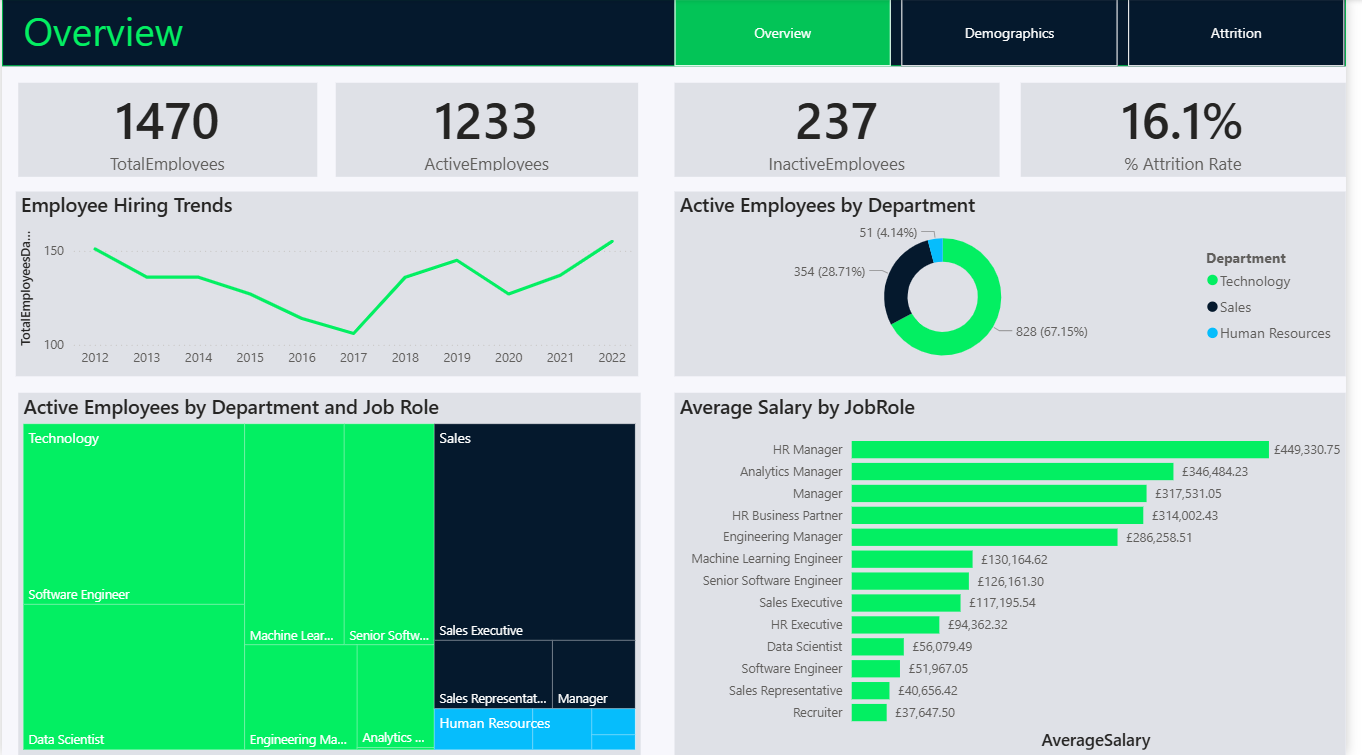

This screenshot's page, from the dashboard's own definition file:
{"tool":"powerbi","page":{"name":"Overview","canvas":[1280,720],"ordinal":0},"visuals":[{"type":"card","fields":{"Values":["_Measures.TotalEmployees"]},"box":[15.5,79.8,284.5,89.3],"z":0},{"type":"card","fields":{"Values":["_Measures.ActiveEmployees"]},"box":[317.9,79.8,288.1,89.3],"z":1000},{"type":"card","fields":{"Values":["_Measures.InactiveEmployees"]},"box":[640.5,79.8,309.5,89.3],"z":2000},{"type":"card","fields":{"Values":["_Measures.% Attrition Rate"]},"box":[970.2,79.8,309.5,89.3],"z":3000},{"type":"lineChart","title":"Employee Hiring Trends","fields":{"Category":["DimDate.Date.Variation.Date Hierarchy.Year","DimDate.Date.Variation.Date Hierarchy.Quarter","DimDate.Date.Variation.Date Hierarchy.Month","DimDate.Date.Variation.Date Hierarchy.Day"],"Y":["_Measures.TotalEmployeesDate"]},"box":[13.1,183.3,592.9,176.2],"z":4000},{"type":"donutChart","title":"Active Employees by Department","fields":{"Category":["DimEmployee.Department"],"Y":["_Measures.ActiveEmployees"]},"box":[640.5,183.3,639.3,176.2],"z":5000},{"type":"treemap","title":"Active Employees by Department and Job Role","fields":{"Values":["_Measures.ActiveEmployees"],"Group":["DimEmployee.Department"],"Details":["DimEmployee.JobRole"]},"box":[15.5,375,592.9,345.2],"z":6000},{"type":"shape","box":[0,0,1280,64],"z":7000},{"type":"textbox","box":[16,0,448,64],"z":8000},{"type":"pageNavigator","box":[640,0,640,64],"z":9000},{"type":"clusteredBarChart","title":"Average Salary by JobRole","fields":{"Y":["_Measures.AverageSalary"],"Category":["DimEmployee.JobRole"]},"box":[640.5,375,639.3,345.2],"z":9001}]}

Visuals, with their boxes in screenshot pixels (x1, y1, x2, y2), scaled from the page's 1280x720 canvas onto the 1362x755 screenshot:
card - _Measures.TotalEmployees: (x1=16, y1=84, x2=319, y2=177)
card - _Measures.ActiveEmployees: (x1=338, y1=84, x2=645, y2=177)
card - _Measures.InactiveEmployees: (x1=682, y1=84, x2=1011, y2=177)
card - _Measures.% Attrition Rate: (x1=1032, y1=84, x2=1361, y2=177)
"Employee Hiring Trends" lineChart: (x1=14, y1=192, x2=645, y2=377)
"Active Employees by Department" donutChart: (x1=682, y1=192, x2=1361, y2=377)
"Active Employees by Department and Job Role" treemap: (x1=16, y1=393, x2=647, y2=754)
shape: (x1=0, y1=0, x2=1361, y2=67)
textbox: (x1=17, y1=0, x2=494, y2=67)
pageNavigator: (x1=681, y1=0, x2=1361, y2=67)
"Average Salary by JobRole" clusteredBarChart: (x1=682, y1=393, x2=1361, y2=754)
